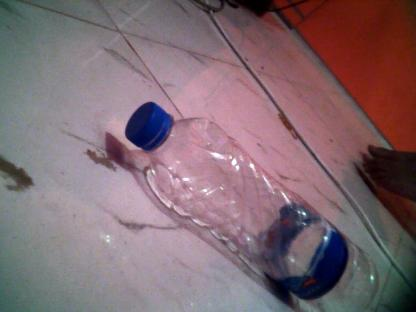Plastic Bottle: (122, 88, 376, 312)
